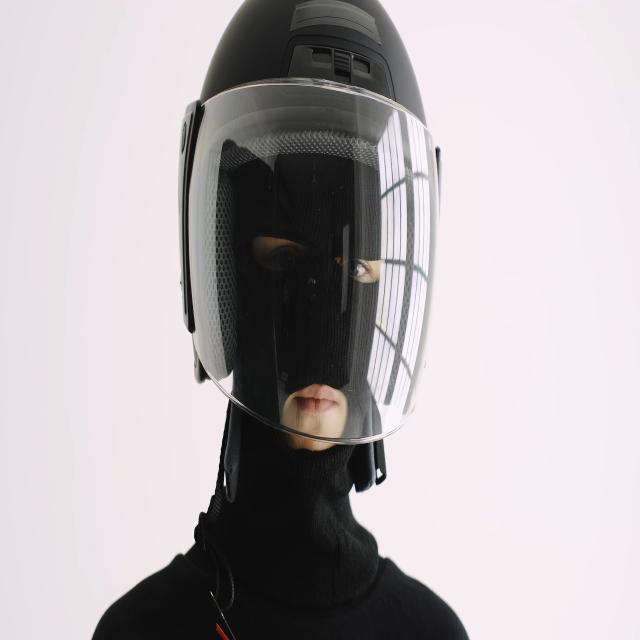Helmet_Wearer: (188, 0, 448, 512)
Person: (94, 0, 468, 640)
